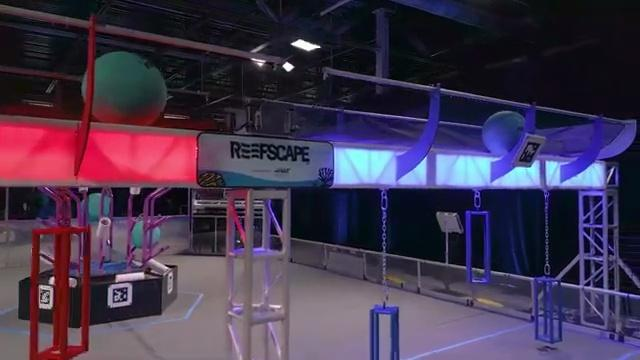ALGAE: (80, 49, 167, 126), (484, 111, 529, 156)
